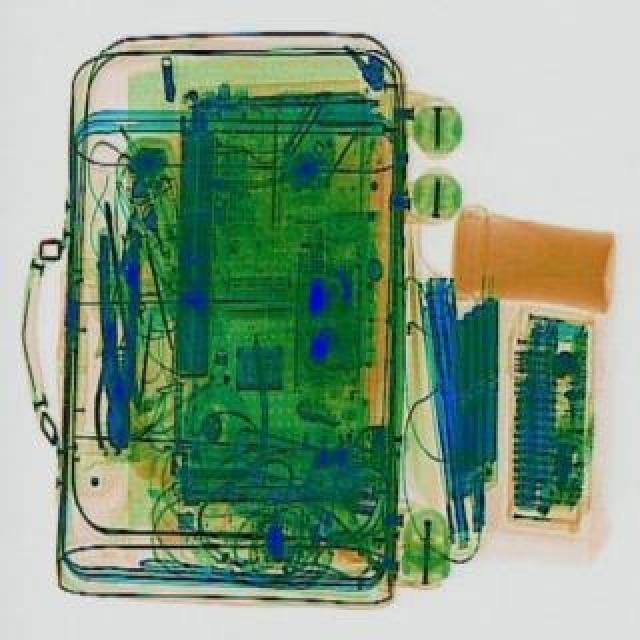wrench: (90, 226, 142, 450), (92, 318, 132, 446)
